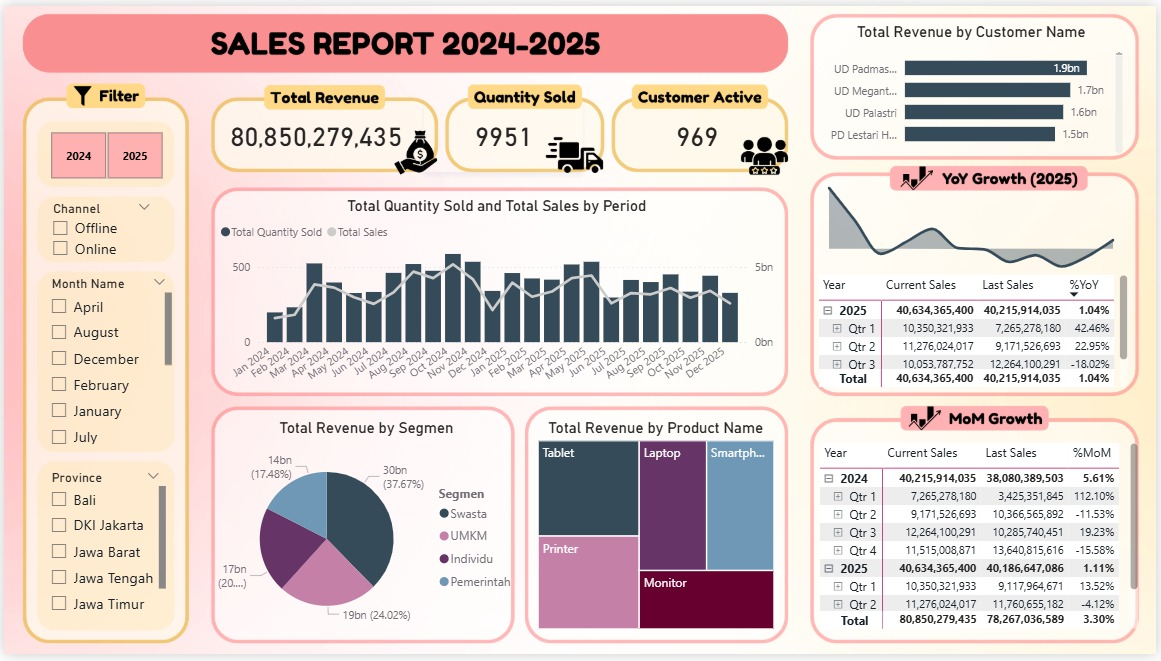

The dashboard page shown, as its layout file describes it:
{"tool":"powerbi","page":{"name":"Page 1","canvas":[1280,720],"ordinal":0},"visuals":[{"type":"lineStackedColumnComboChart","fields":{"Category":["All Transaksi.Bulan_Tahun"],"Y2":["Sum(All Transaksi.Total_Penjualan)"],"Y":["Sum(All Transaksi.Qty)"]},"box":[235,211.2,625,222.5],"z":0},{"type":"barChart","fields":{"Category":["All Transaksi.Customer.Nama_Customer"],"Y":["Sum(All Transaksi.Total_Penjualan)"]},"box":[902,18,346,150],"z":1000},{"type":"treemap","fields":{"Group":["All Transaksi.Nama Produk"],"Values":["Sum(All Transaksi.Total_Penjualan)"]},"box":[588.3,458.3,271.7,238.3],"z":2000},{"type":"pieChart","fields":{"Y":["Sum(All Transaksi.Total_Penjualan)"],"Category":["All Transaksi.Customer.Segmen"]},"box":[228.8,457.5,348.8,247.5],"z":3000},{"type":"card","fields":{"Values":["Sum(All Transaksi.Total_Penjualan)"]},"box":[236.7,101.7,220,83.3],"z":4000},{"type":"card","fields":{"Values":["Sum(All Transaksi.Qty)"]},"box":[466.7,101.7,176.7,83.3],"z":5000},{"type":"card","fields":{"Values":["CountNonNull(All Transaksi.Customer.CustomerID)"]},"box":[680,101.7,180,83.3],"z":6000},{"type":"slicer","fields":{"Values":["All Transaksi.Customer.Provinsi"]},"box":[40.6,510,144.7,180.6],"z":7000},{"type":"pivotTable","fields":{"Rows":["Date_Table.Date.Variation.Date Hierarchy.Year","Date_Table.Date.Variation.Date Hierarchy.Quarter","Date_Table.Date.Variation.Date Hierarchy.Month","Date_Table.Date.Variation.Date Hierarchy.Day","InputDataTransaksi.Tanggal Transaksi"],"Values":["Sum(All Transaksi.Total_Penjualan)","All Transaksi.LM_1","All Transaksi.MoM Growth"]},"box":[901.7,480,363.3,216.7],"z":8000},{"type":"pivotTable","fields":{"Rows":["Date_Table.Date.Variation.Date Hierarchy.Year","Date_Table.Date.Variation.Date Hierarchy.Quarter","Date_Table.Date.Variation.Date Hierarchy.Month","Date_Table.Date.Variation.Date Hierarchy.Day","InputDataTransaksi.Tanggal Transaksi"],"Values":["Sum(All Transaksi.Total_Penjualan)","All Transaksi.LM_1","All Transaksi.MoM Growth"]},"box":[1253.6,815.5,352.7,216.4],"z":9000},{"type":"pivotTable","fields":{"Rows":["Date_Table.Date.Variation.Date Hierarchy.Year","Date_Table.Date.Variation.Date Hierarchy.Quarter","Date_Table.Date.Variation.Date Hierarchy.Month","Date_Table.Date.Variation.Date Hierarchy.Day","InputDataTransaksi.Tanggal Transaksi"],"Values":["Sum(All Transaksi.Total_Penjualan)","All Transaksi.LM_1","All Transaksi.MoM Growth"]},"box":[1417.3,786.4,352.7,216.4],"z":10000},{"type":"pivotTable","fields":{"Rows":["Date_Table.Date.Variation.Date Hierarchy.Year","Date_Table.Date.Variation.Date Hierarchy.Quarter","Date_Table.Date.Variation.Date Hierarchy.Month","Date_Table.Date.Variation.Date Hierarchy.Day","InputDataTransaksi.Tanggal Transaksi"],"Values":["Sum(All Transaksi.Total_Penjualan)","All Transaksi.LM_1","All Transaksi.MoM Growth"]},"box":[1402.7,805.5,352.7,216.4],"z":11000},{"type":"pivotTable","fields":{"Rows":["Date_Table.Date.Variation.Date Hierarchy.Year","Date_Table.Date.Variation.Date Hierarchy.Quarter","Date_Table.Date.Variation.Date Hierarchy.Month","Date_Table.Date.Variation.Date Hierarchy.Day","InputDataTransaksi.Tanggal Transaksi"],"Values":["Sum(All Transaksi.Total_Penjualan)","All Transaksi.LY","All Transaksi.YoY Growth"]},"box":[900,293.3,353.3,135],"z":12000},{"type":"lineChart","fields":{"Category":["Date_Table.Date.Variation.Date Hierarchy.Year","Date_Table.Date.Variation.Date Hierarchy.Quarter","Date_Table.Date.Variation.Date Hierarchy.Month","Date_Table.Date.Variation.Date Hierarchy.Day","InputDataTransaksi.Tanggal Transaksi"],"Y":["All Transaksi.YoY Growth"]},"box":[900,186.7,348.3,111.7],"z":13000},{"type":"slicer","fields":{"Values":["Date_Table.Year"]},"box":[25.8,132.5,173.3,65],"z":14000},{"type":"slicer","fields":{"Values":["All Transaksi.Month Name"]},"box":[40.6,294.7,151.8,196.5],"z":15000},{"type":"slicer","fields":{"Values":["All Transaksi.Channel"]},"box":[41,211,133,82],"z":16000}]}

Visuals, with their boxes in screenshot pixels (x1, y1, x2, y2), scaled from the page's 1280x720 canvas onto the 1161x661 screenshot:
lineStackedColumnComboChart - All Transaksi.Bulan_Tahun x Sum(All Transaksi.Total_Penjualan): 213,194,780,398
barChart - All Transaksi.Customer.Nama_Customer x Sum(All Transaksi.Total_Penjualan): 818,17,1132,154
treemap - All Transaksi.Nama Produk x Sum(All Transaksi.Total_Penjualan): 534,421,780,640
pieChart - Sum(All Transaksi.Total_Penjualan) x All Transaksi.Customer.Segmen: 208,420,524,647
card - Sum(All Transaksi.Total_Penjualan): 215,93,414,170
card - Sum(All Transaksi.Qty): 423,93,584,170
card - CountNonNull(All Transaksi.Customer.CustomerID): 617,93,780,170
slicer - All Transaksi.Customer.Provinsi: 37,468,168,634
pivotTable - Date_Table.Date.Variation.Date Hierarchy.Year x Date_Table.Date.Variation.Date Hierarchy.Quarter: 818,441,1147,640
pivotTable - Date_Table.Date.Variation.Date Hierarchy.Year x Date_Table.Date.Variation.Date Hierarchy.Quarter: 816,269,1137,393
lineChart - Date_Table.Date.Variation.Date Hierarchy.Year x Date_Table.Date.Variation.Date Hierarchy.Quarter: 816,171,1132,274
slicer - Date_Table.Year: 23,122,181,181
slicer - All Transaksi.Month Name: 37,271,175,451
slicer - All Transaksi.Channel: 37,194,158,269
